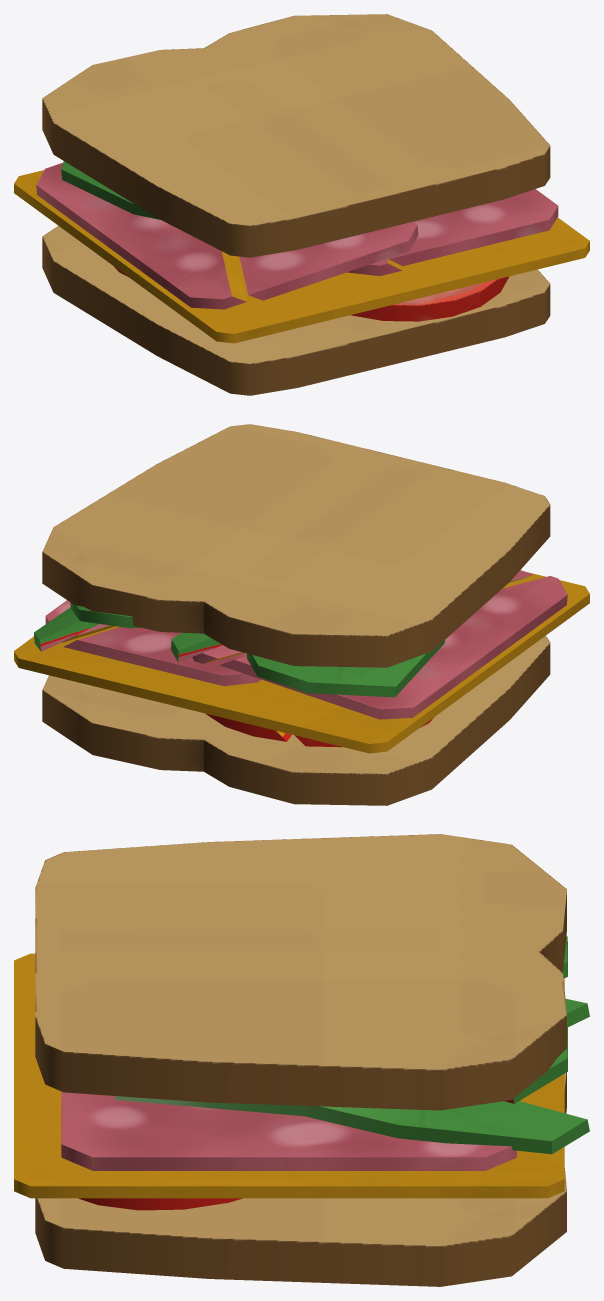
File: sandwitchPieces.fbx
3 renders of one model, top to bottom at view 1: azimuth 30°, elevation 25°; view 2: azimuth 150°, elevation 25°; view 3: azimuth 270°, elevation 25°, orthographic. The views are drawn at different scales.
Parts seen in each view (by area): view 1: sandwitch_Chunk_030, sandwitch_Chunk_029, sandwitch_Chunk_013, sandwitch_Chunk_017, sandwitch_Chunk_025, sandwitch_Chunk_014, sandwitch_Chunk_026, sandwitch_Chunk_019, sandwitch_Chunk_023, sandwitch_Chunk_028, sandwitch_Chunk_018, sandwitch_Chunk_024 (+1 smaller); view 2: sandwitch_Chunk_030, sandwitch_Chunk_029, sandwitch_Chunk_013, sandwitch_Chunk_018, sandwitch_Chunk_014, sandwitch_Chunk_025, sandwitch_Chunk_020, sandwitch_Chunk_028, sandwitch_Chunk_017, sandwitch_Chunk_022, sandwitch_Chunk_027, sandwitch_Chunk_021 (+2 smaller); view 3: sandwitch_Chunk_029, sandwitch_Chunk_030, sandwitch_Chunk_014, sandwitch_Chunk_019, sandwitch_Chunk_018, sandwitch_Chunk_017, sandwitch_Chunk_022, sandwitch_Chunk_024, sandwitch_Chunk_021.
Boxes of the visible parts, x1,y1,x2,y2 form: sandwitch_Chunk_030: (42, 48, 402, 257); sandwitch_Chunk_029: (203, 14, 550, 223); sandwitch_Chunk_013: (42, 226, 402, 395); sandwitch_Chunk_017: (54, 213, 589, 343); sandwitch_Chunk_025: (36, 162, 246, 309); sandwitch_Chunk_014: (386, 269, 550, 361); sandwitch_Chunk_026: (239, 222, 418, 300); sandwitch_Chunk_019: (388, 189, 558, 266); sandwitch_Chunk_023: (350, 285, 481, 321); sandwitch_Chunk_028: (61, 161, 160, 219); sandwitch_Chunk_018: (14, 170, 64, 229); sandwitch_Chunk_024: (464, 276, 509, 312); sandwitch_Chunk_030: (202, 457, 550, 667); sandwitch_Chunk_029: (42, 424, 401, 633); sandwitch_Chunk_013: (202, 635, 550, 805); sandwitch_Chunk_018: (14, 626, 437, 753); sandwitch_Chunk_014: (42, 675, 223, 771); sandwitch_Chunk_025: (220, 576, 567, 719); sandwitch_Chunk_020: (63, 627, 260, 686); sandwitch_Chunk_028: (247, 640, 444, 697); sandwitch_Chunk_017: (424, 572, 589, 714); sandwitch_Chunk_022: (34, 607, 98, 651); sandwitch_Chunk_027: (171, 632, 222, 662); sandwitch_Chunk_021: (70, 602, 139, 628); sandwitch_Chunk_029: (35, 951, 566, 1110); sandwitch_Chunk_030: (35, 834, 566, 971); sandwitch_Chunk_014: (35, 1168, 566, 1286); sandwitch_Chunk_019: (61, 1091, 516, 1170); sandwitch_Chunk_018: (133, 978, 564, 1198); sandwitch_Chunk_017: (14, 953, 178, 1198); sandwitch_Chunk_022: (115, 1096, 589, 1154); sandwitch_Chunk_024: (78, 1198, 242, 1210); sandwitch_Chunk_021: (504, 1020, 567, 1103).
Size of the model in its own units: 48.21 by 20.68 by 49.75.
